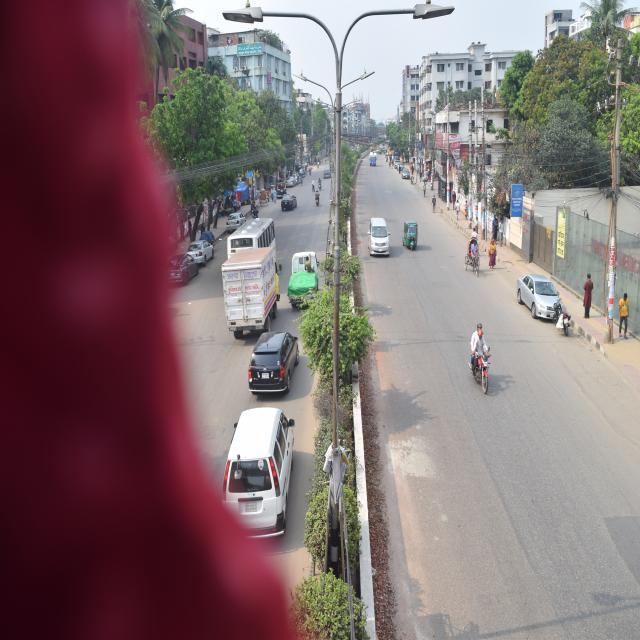bus: (236, 206, 278, 263)
car: (249, 330, 302, 387), (514, 275, 564, 317), (168, 253, 193, 280), (194, 230, 212, 262), (280, 187, 298, 207), (229, 206, 241, 225)
microbus: (224, 407, 296, 540), (369, 214, 394, 260)
motorbike: (465, 313, 502, 385), (547, 293, 574, 332), (313, 187, 323, 213)
pickup-van: (223, 248, 277, 328)
